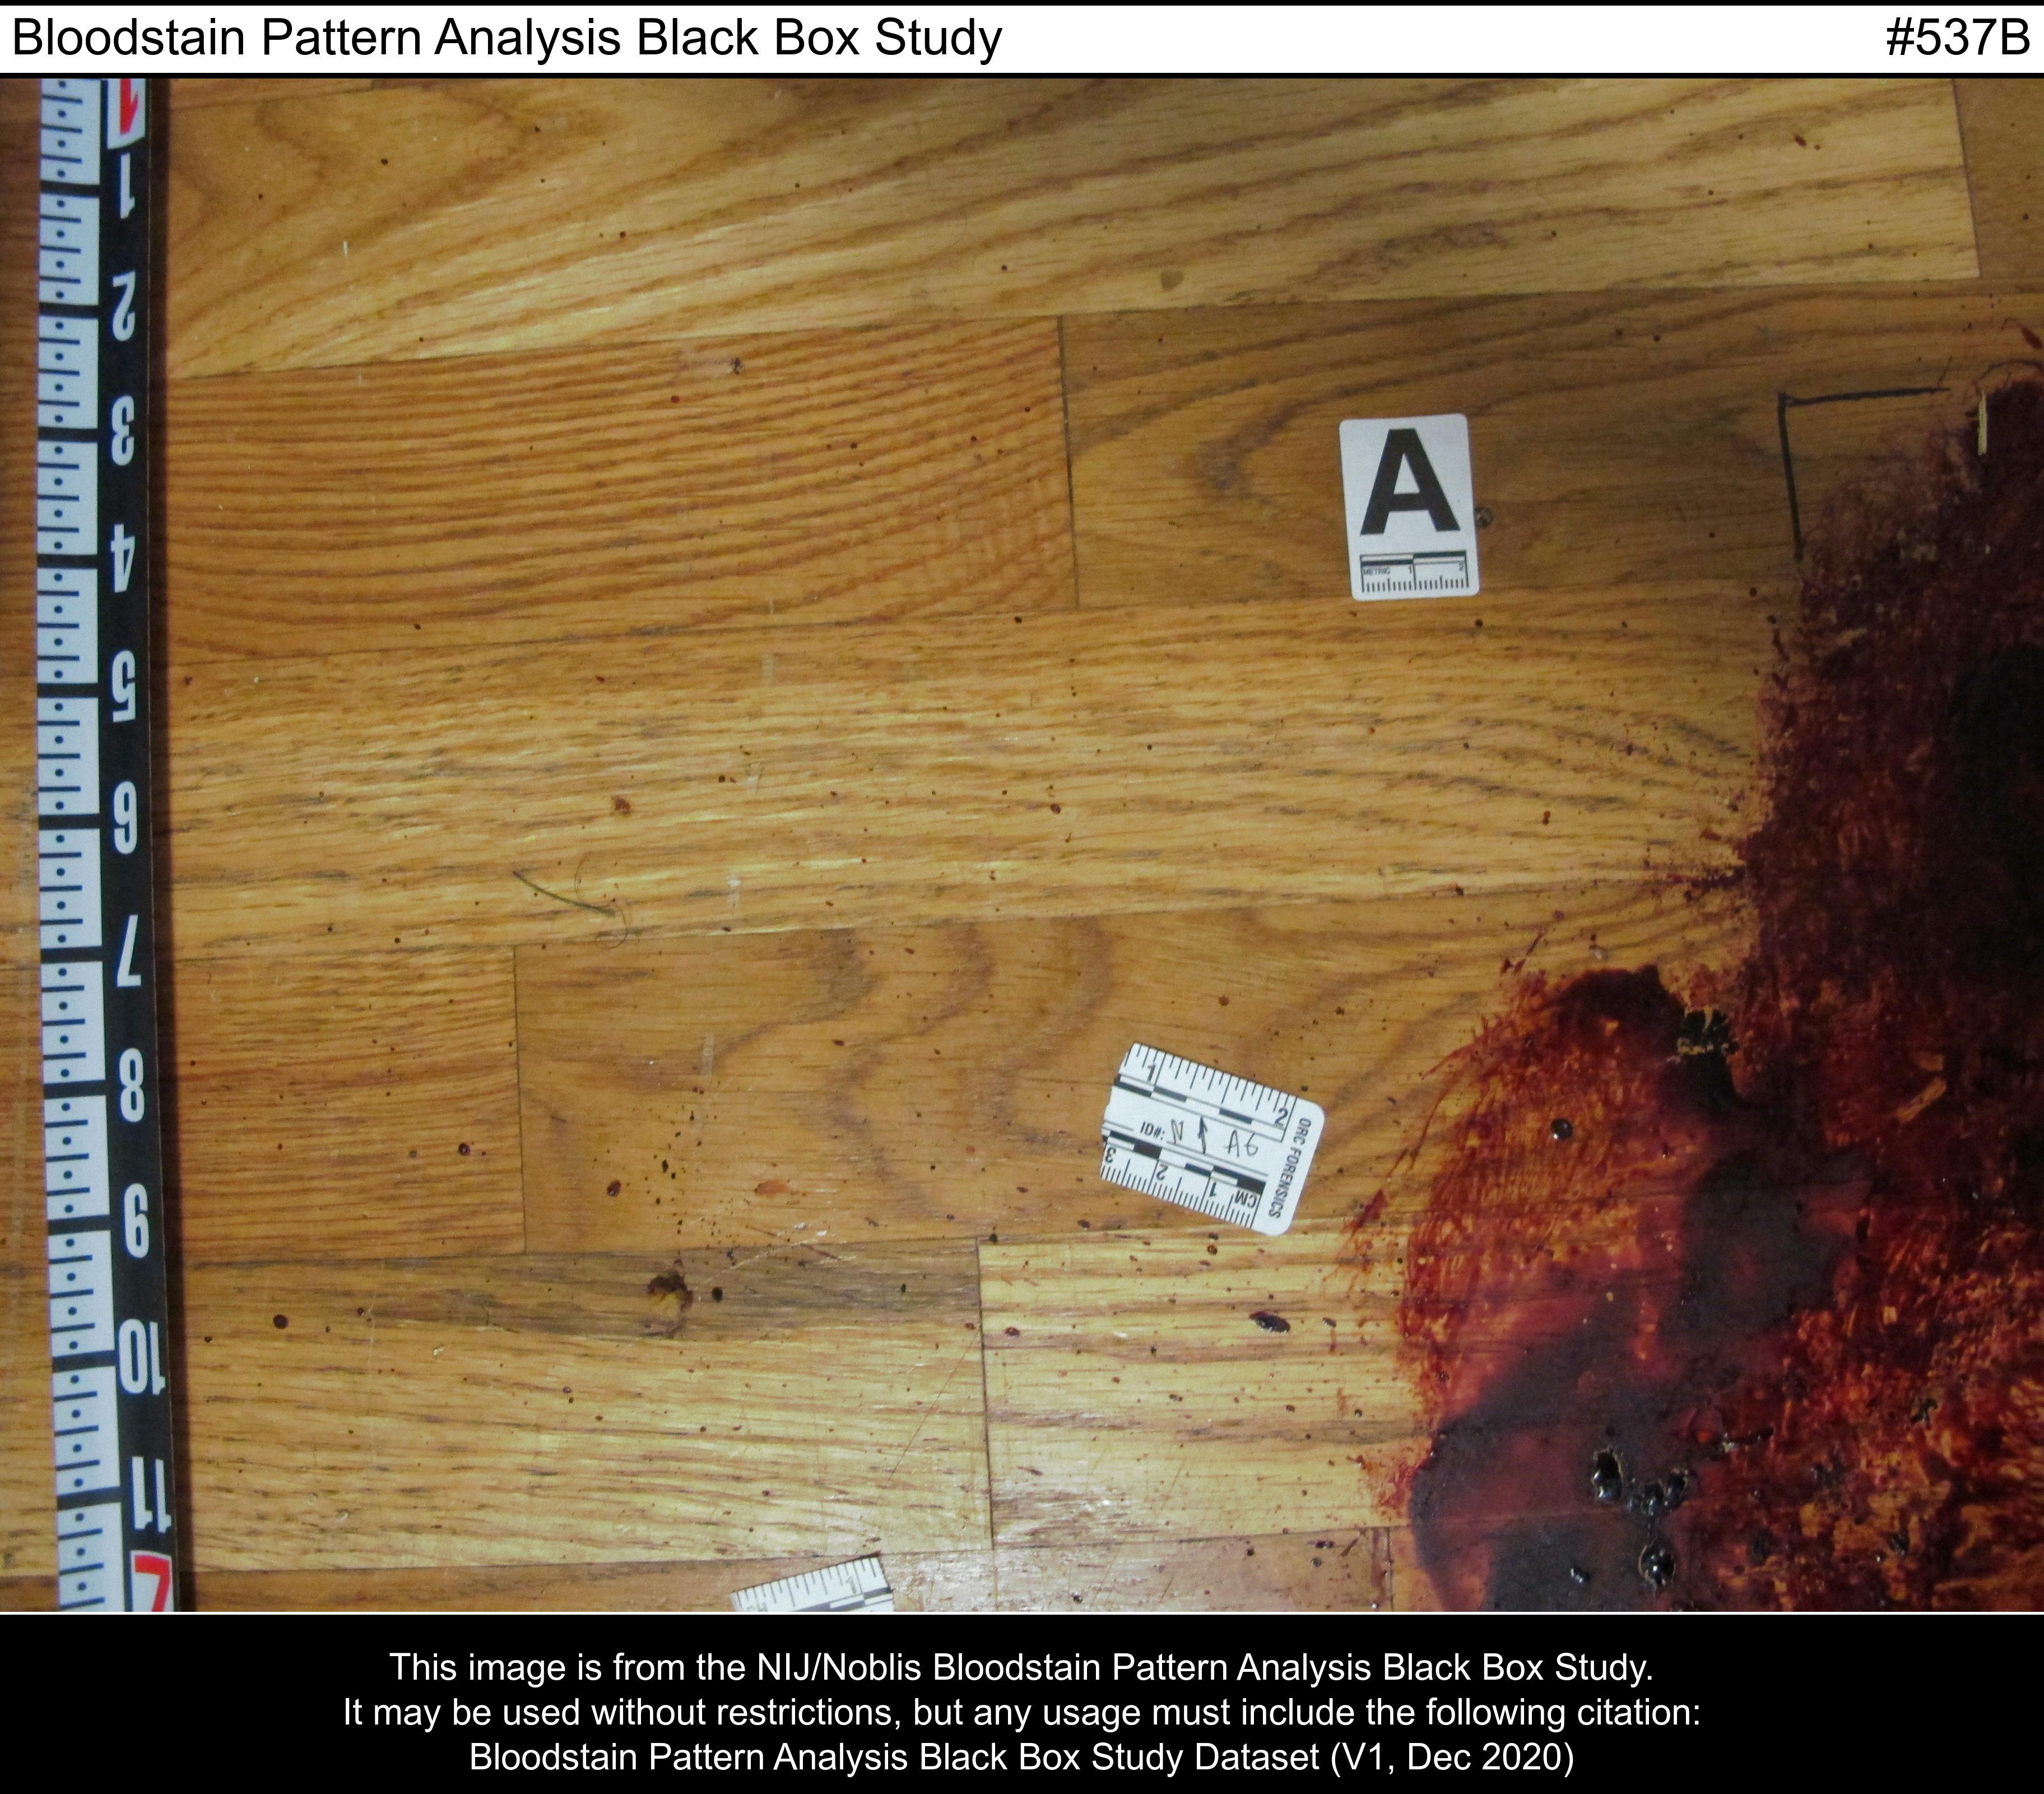Passive: (1227, 229, 2044, 1615)
